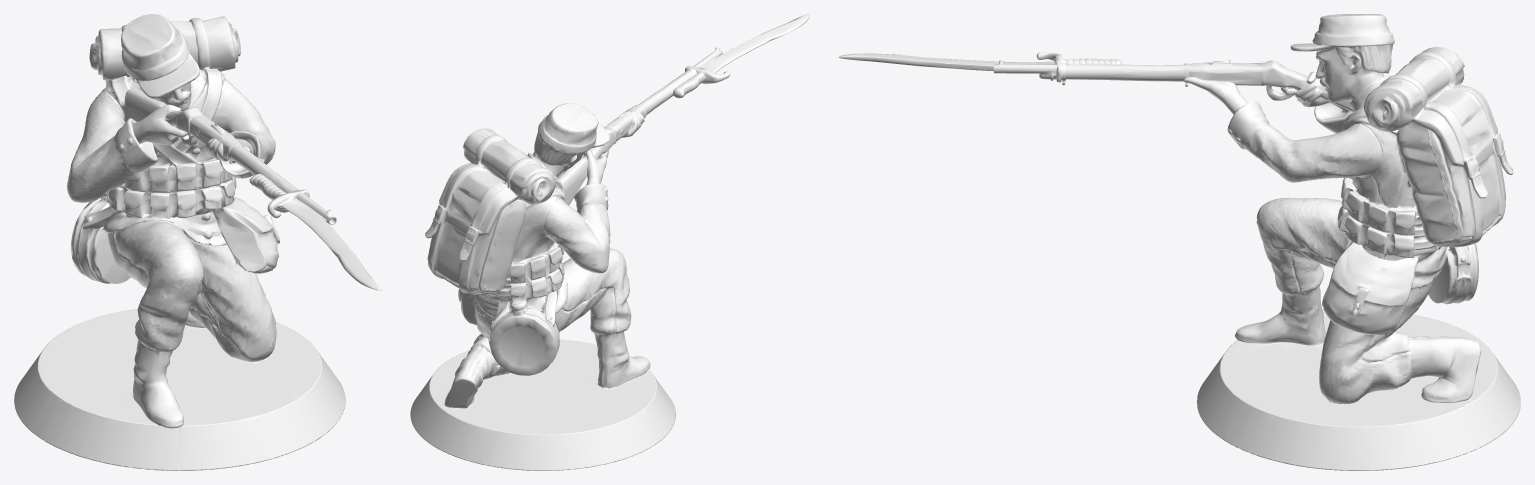
Rendered from Chilean Infantery_pose_apuntando_hincado_low.glb.
3 views of the same model, side by side, from view 1: azimuth 30°, elevation 25°; view 2: azimuth 150°, elevation 25°; view 3: azimuth 270°, elevation 25° (orthographic). The views are drawn at different scales.
Visible parts, largest first — view 1: Chilean Infantery_pose_apuntando_hincado_low; view 2: Chilean Infantery_pose_apuntando_hincado_low; view 3: Chilean Infantery_pose_apuntando_hincado_low.
Boxes of the visible parts, x1,y1,x2,y2 form: Chilean Infantery_pose_apuntando_hincado_low: (14, 14, 381, 470); Chilean Infantery_pose_apuntando_hincado_low: (410, 14, 809, 470); Chilean Infantery_pose_apuntando_hincado_low: (838, 14, 1520, 470).
Bounding box in the file's own units: 46.79 × 60.46 × 98.65.
1 material, 1 textured.
